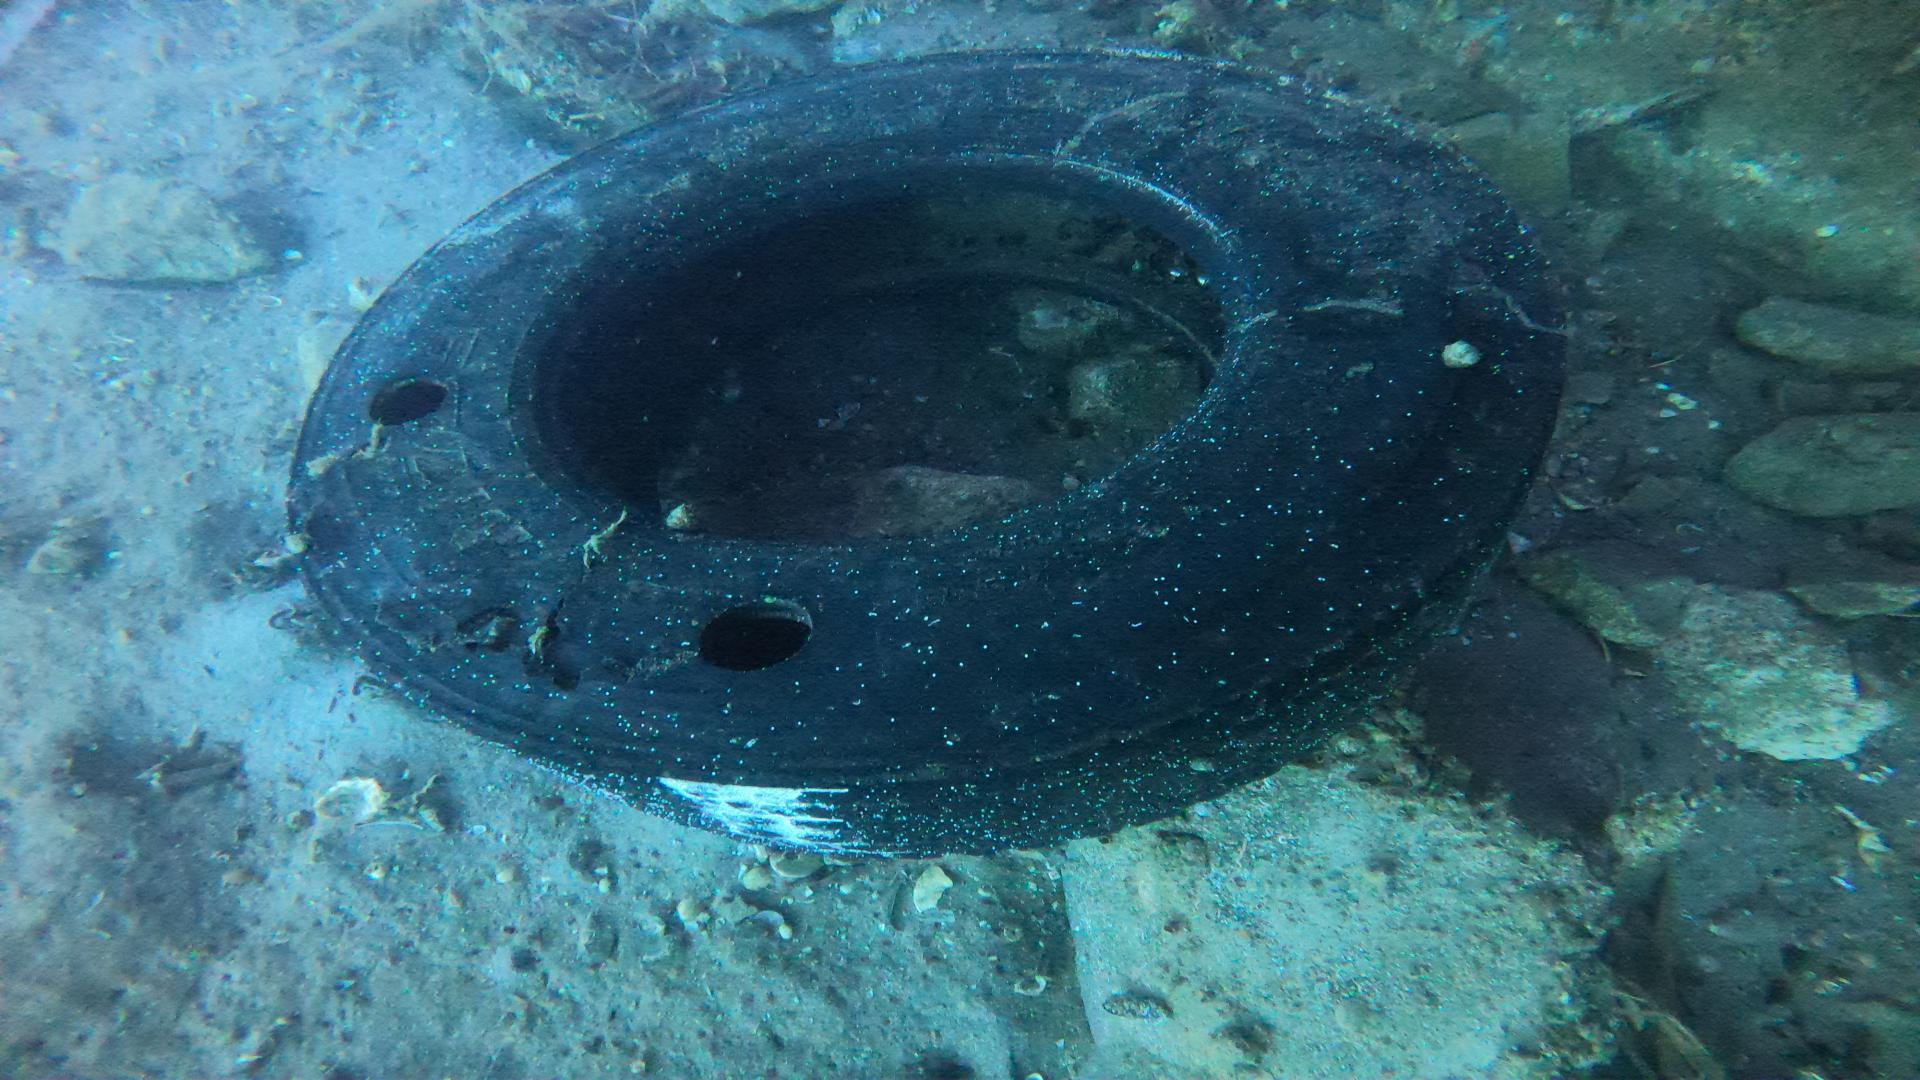tire: (284, 46, 1568, 858)
